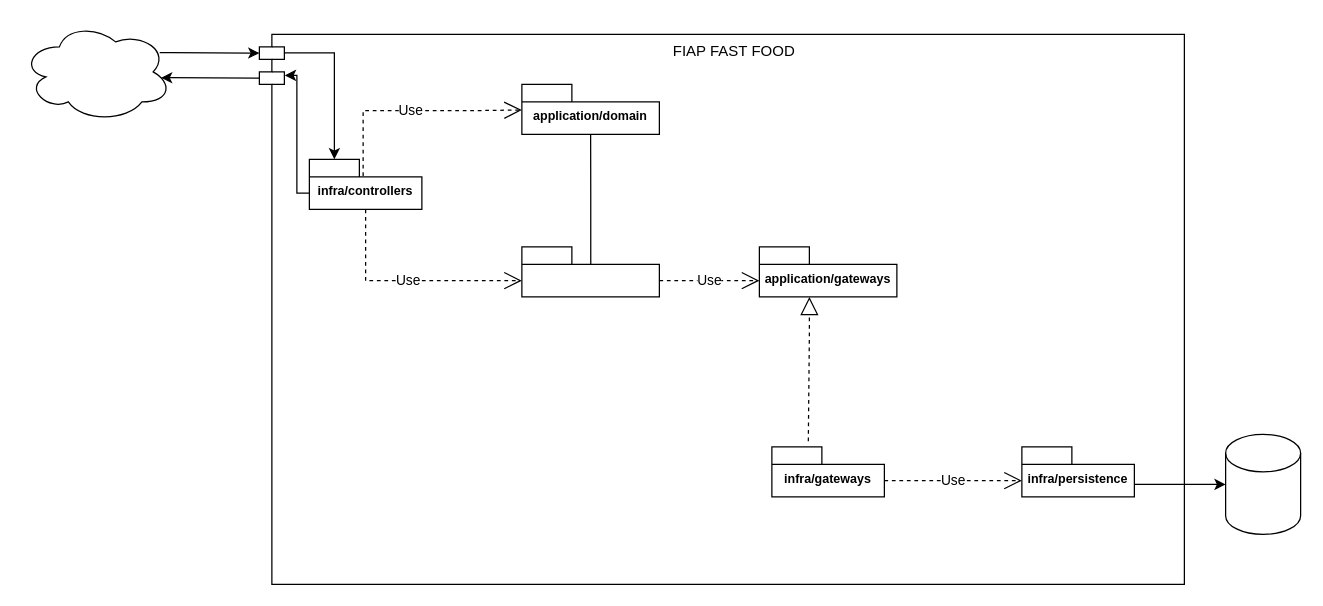
The diagram is 1323 pixels wide and 606 high, and some of its shapes have lost their labels. The centre of each missing label's shape, as x and y in pixels:
"application/usecases" belongs at point (590, 271).
"Externo" belongs at point (96, 71).
"Postgres" belongs at point (1262, 483).
